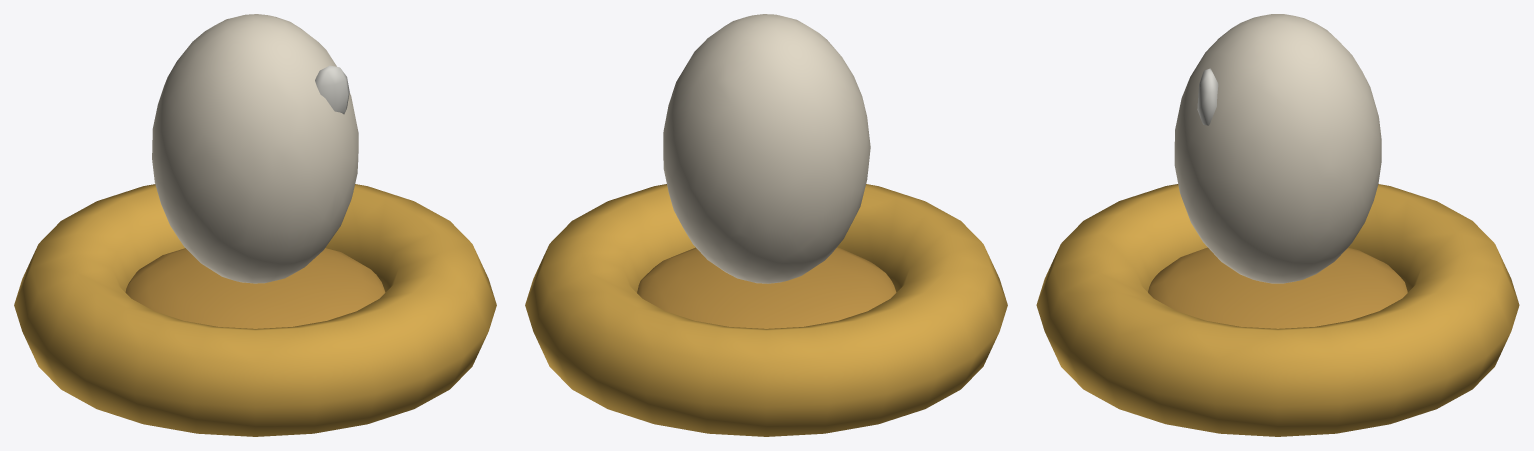
3 renders of one model, left to right at view 1: azimuth 30°, elevation 25°; view 2: azimuth 150°, elevation 25°; view 3: azimuth 270°, elevation 25°, orthographic.
Visible parts, largest first — view 1: Ei; view 2: Ei; view 3: Ei.
Part boxes in pixels (x1,y1,x2,y2): Ei: (14, 14, 496, 436); Ei: (525, 14, 1007, 436); Ei: (1036, 14, 1519, 436).
Size of the model in its own units: 0.84 by 0.6458 by 0.84.
